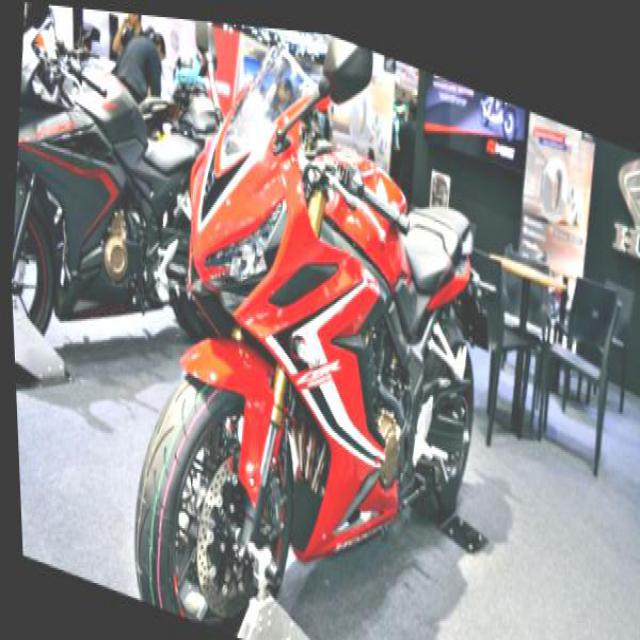CBR650R: (103, 8, 509, 638)
